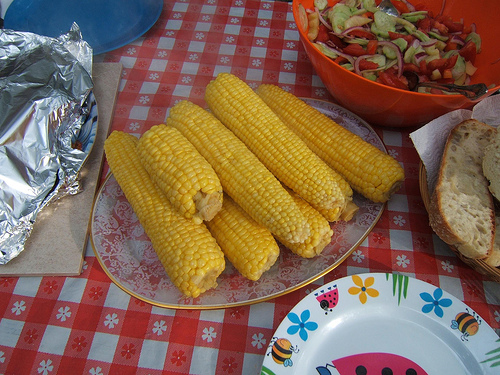corn: (102, 127, 226, 296), (205, 72, 345, 221), (132, 124, 222, 222)
